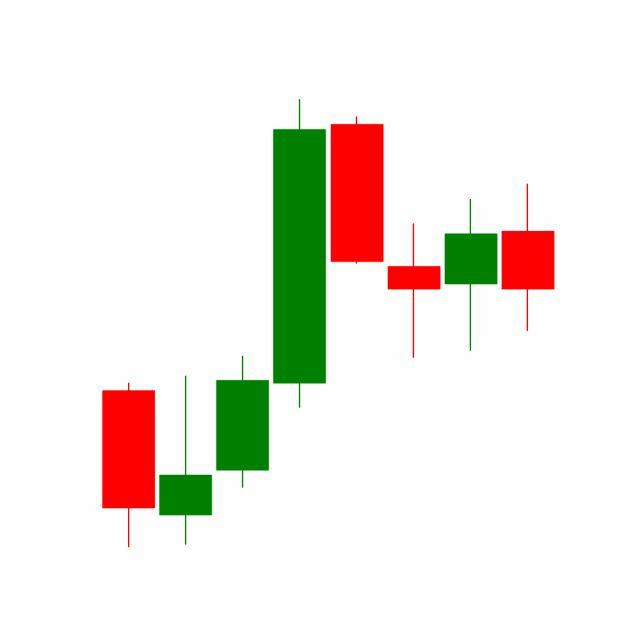Upside-Downside Gap Three Methods: (328, 114, 500, 361)
